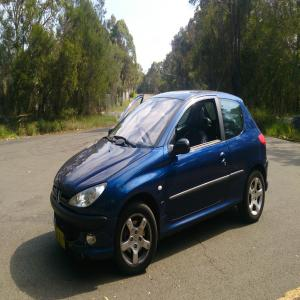Vehicle-registration-plate: (58, 227, 67, 253)
